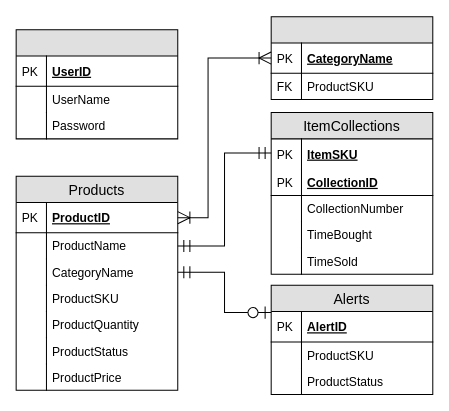
Image size: 449x411. Some labels were removed from this diagram. The box of each missing label's shape, as (x1, y1, x2, y2) in pixels:
Categories: (270, 16, 433, 99)
Users: (15, 29, 178, 139)
